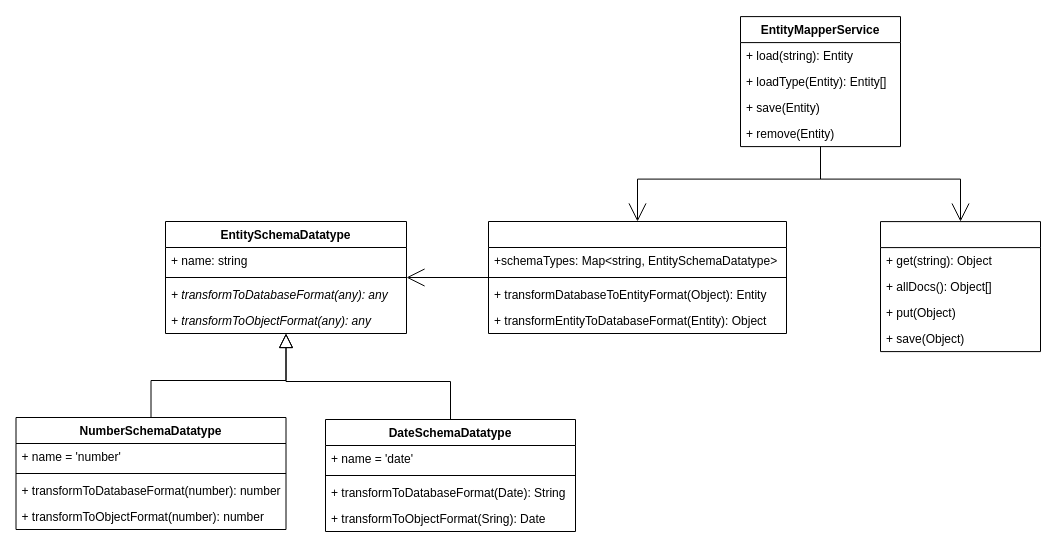
Image size: 1057x548. Some labels were removed from this diagram. Here are the shapes that lost their labels. From the top down, the box of each, then its label:
(488, 220, 786, 334): EntitySchemaService
(880, 221, 1040, 352): Database
